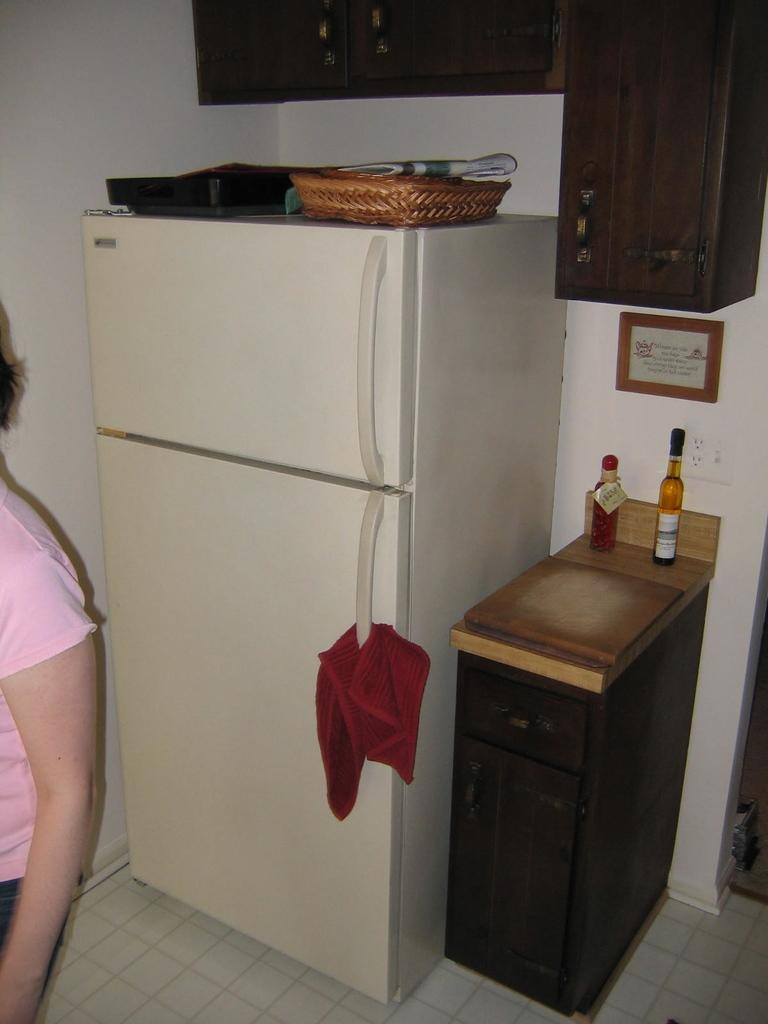cabinet_door: (462, 760, 566, 962), (632, 80, 718, 308), (352, 2, 553, 84), (566, 52, 615, 294), (465, 686, 589, 770), (207, 12, 337, 86)
handle: (349, 244, 393, 480), (348, 506, 384, 697), (631, 245, 688, 283), (365, 13, 394, 74), (575, 188, 594, 259), (464, 766, 483, 830), (316, 27, 336, 84), (508, 712, 530, 736)
